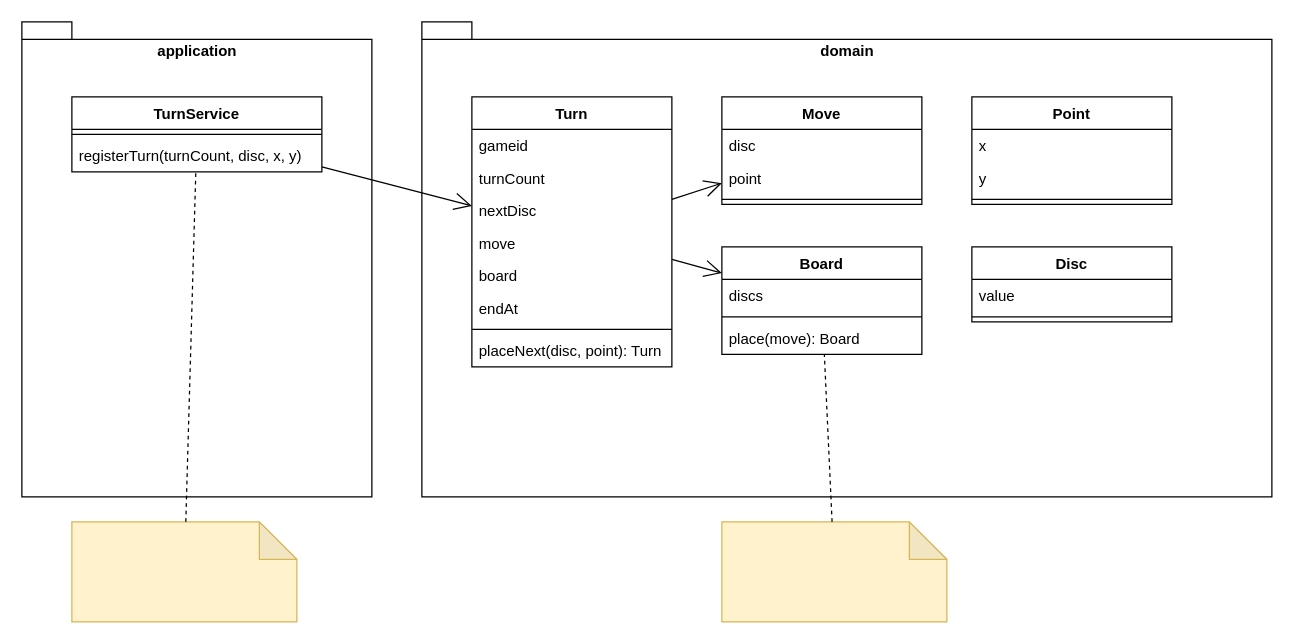
The diagram is 1294 pixels wide and 644 high, and some of its shapes have lost their labels. Each missing label, with the centre of its shape:
placeの内部では、 ・盤面に石が置けるかチェック ・石を置く ・ひっくり返す: (x=834, y=571)
・1つ前のターンを取得する ・石を置く ・ターンを保存する: (x=184, y=571)
